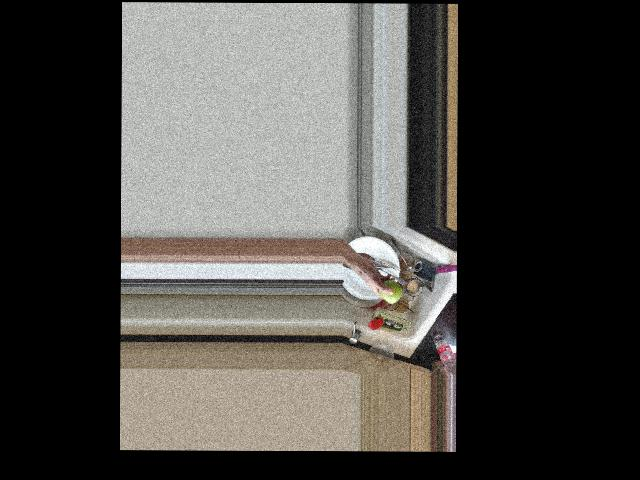apple: (376, 277, 402, 304)
